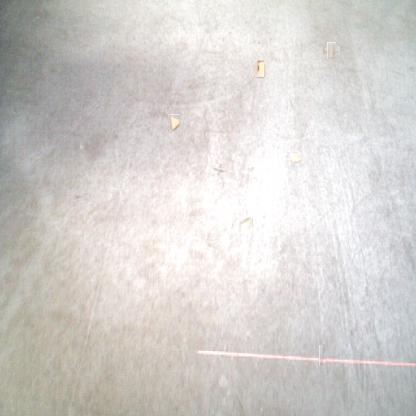dirty: (239, 217, 252, 234), (168, 114, 180, 131), (254, 60, 264, 77), (325, 44, 338, 57), (287, 152, 301, 164)
mark: (319, 344, 326, 366), (215, 166, 224, 175), (73, 194, 80, 202), (206, 241, 213, 248)
